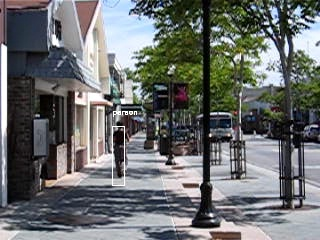person: (111, 122, 130, 179), (110, 122, 129, 179), (112, 122, 131, 179), (111, 121, 130, 178), (111, 123, 130, 180)
target_negative: (92, 47, 225, 135), (89, 77, 158, 225), (108, 167, 310, 213), (242, 204, 305, 240), (222, 191, 247, 240), (226, 117, 239, 126)
